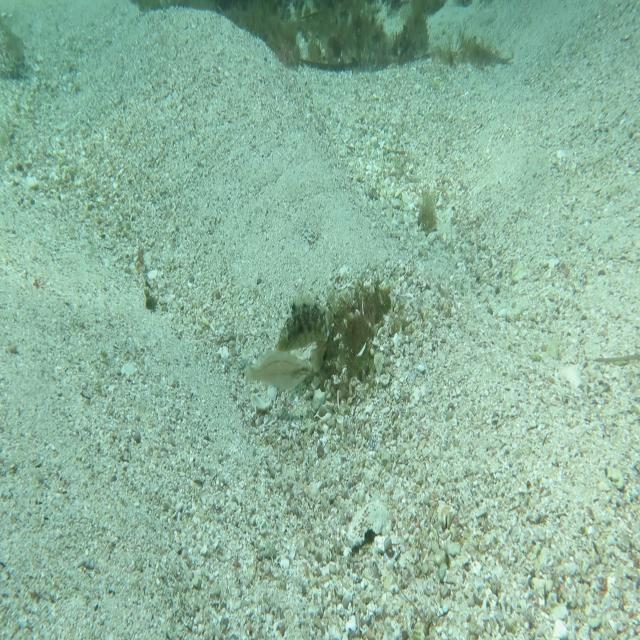DAN_CIRC: (276, 287, 330, 377)
female: (242, 344, 312, 397)
nest: (300, 272, 396, 409)
vegetation: (226, 0, 446, 65), (412, 197, 440, 250)
